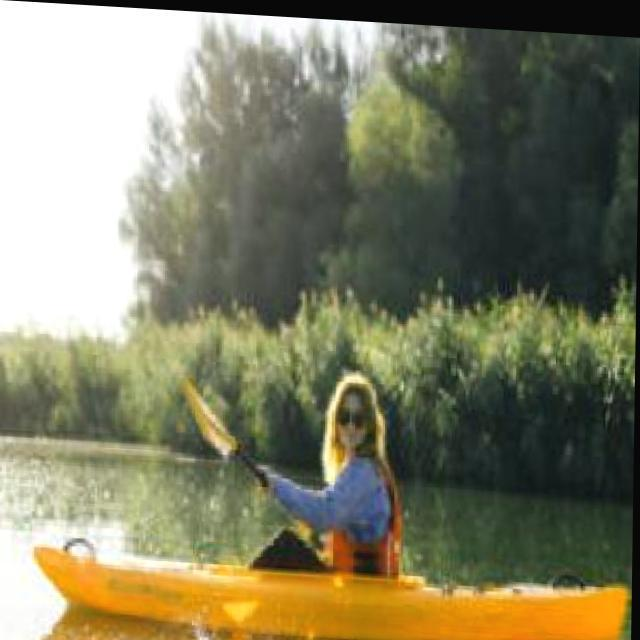kayak: (35, 543, 628, 639)
